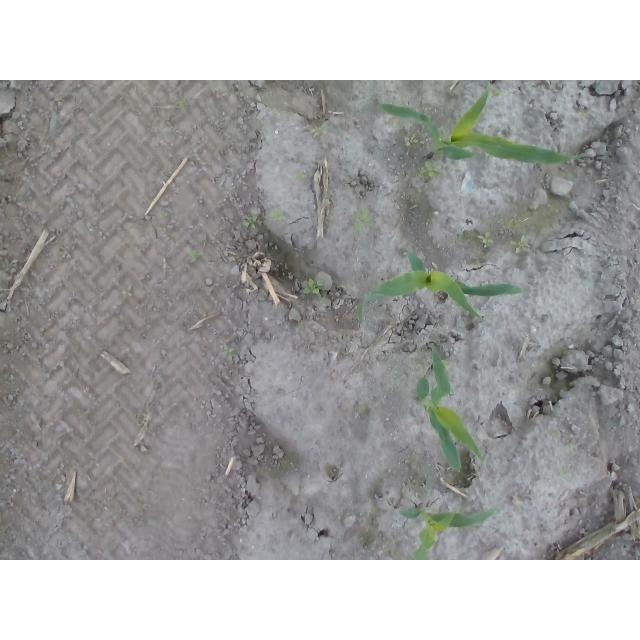Maize: (376, 84, 572, 169), (357, 253, 524, 324), (415, 344, 484, 472), (399, 505, 499, 560)
Weeds: (304, 276, 325, 297), (509, 233, 528, 255), (355, 208, 369, 232), (422, 161, 439, 180), (478, 231, 495, 247), (242, 214, 256, 229), (221, 344, 235, 359), (405, 132, 420, 145), (270, 210, 286, 220), (312, 127, 325, 137), (190, 251, 200, 262), (295, 170, 305, 180), (442, 360, 450, 369)
